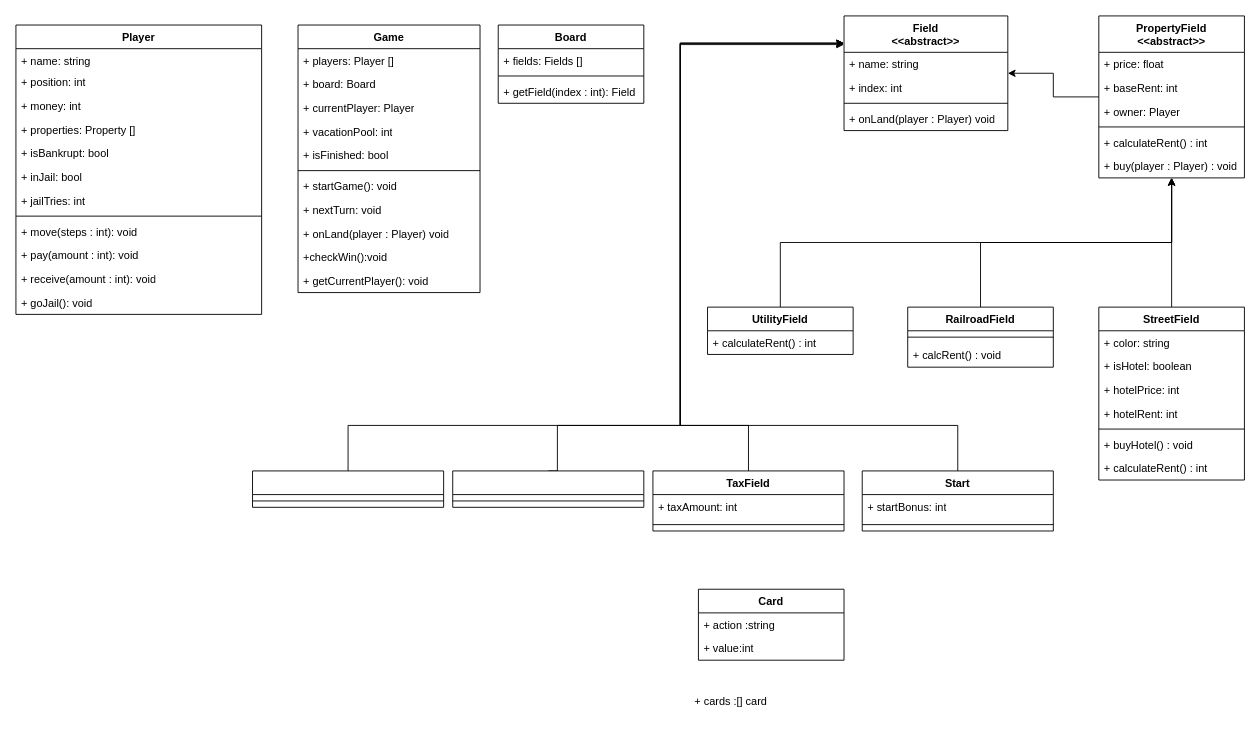
Image size: 1260x732. Some labels were removed from this diagram. The centre of each missing label's shape, as x and y in pixels:
"Jail" goes at (348,488).
"VacationField" goes at (548,488).
